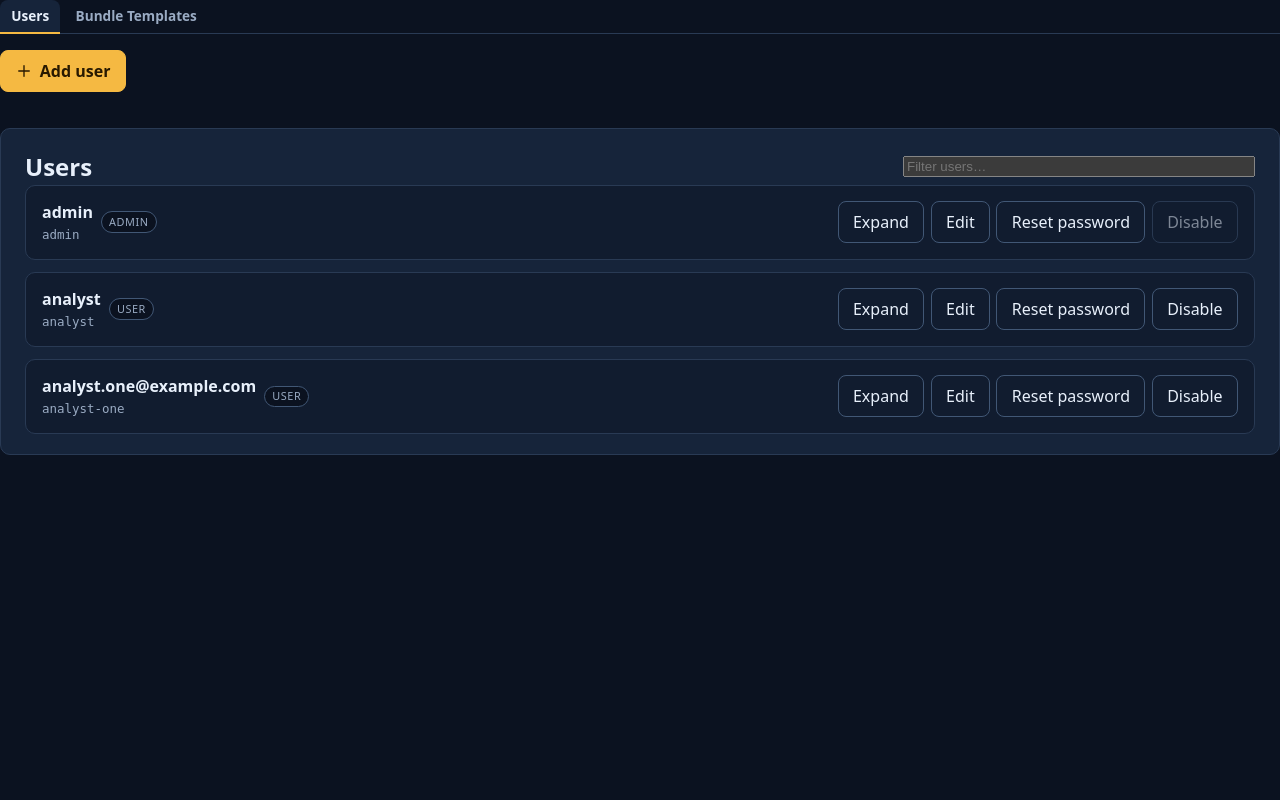
Test case: UserManagement credential copy › offers explicit host and IP bundle mapping values
The image size is (1280, 800).
Click the button "Bundle Templates" at [136, 17], box [64,0,208,34]
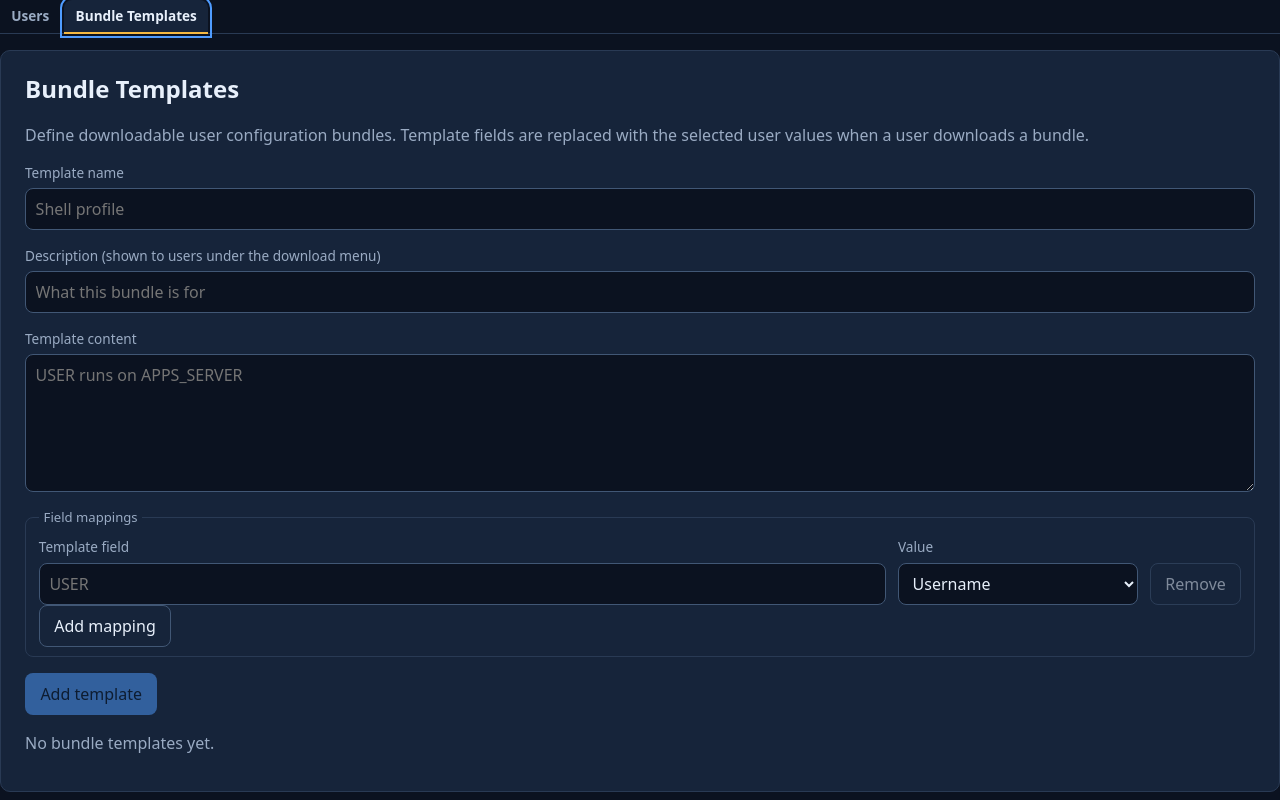
Expected: the heading "Bundle Templates" is shown, [25,72,239,105]
